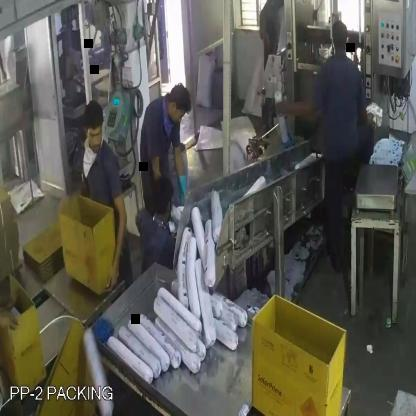no_glove: (102, 173, 133, 303), (0, 307, 26, 349)
